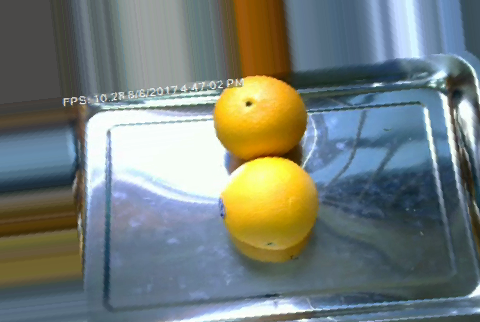Orange: (219, 156, 319, 249), (211, 75, 308, 160)
